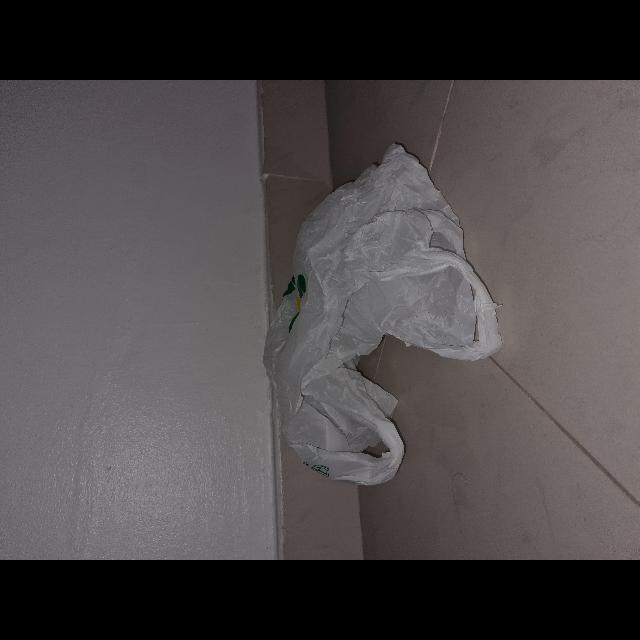sacola plástica: (264, 142, 502, 486)
